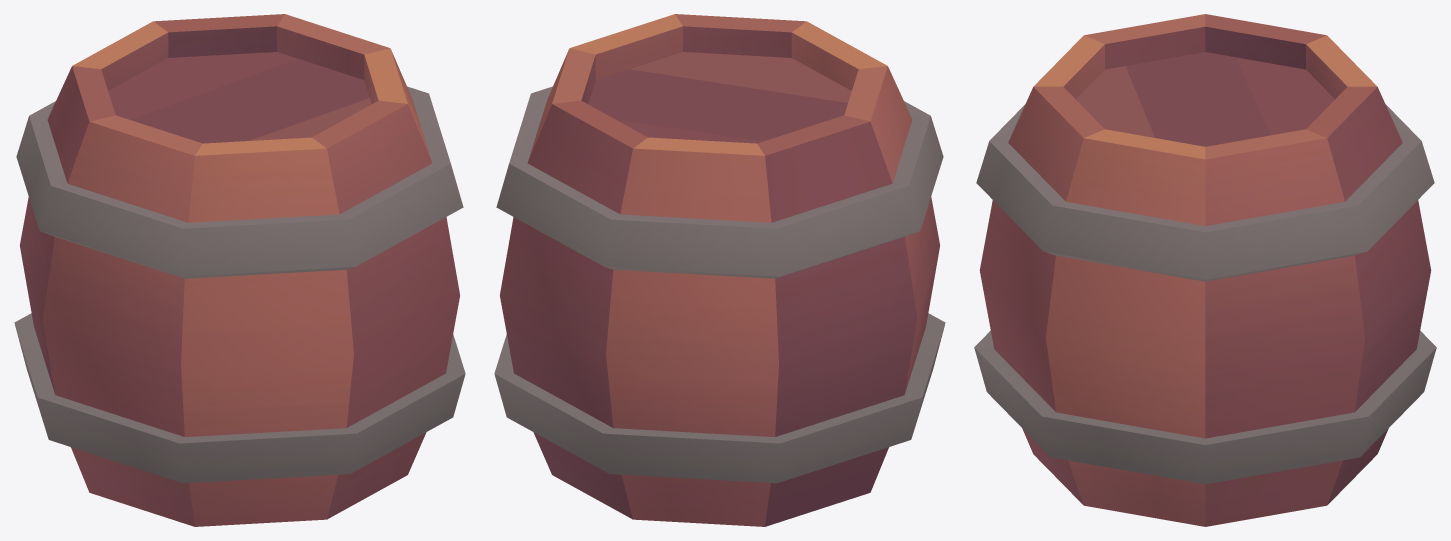
The model's file is village_town_barrel.glb.
3 views of the same model, side by side, from view 1: azimuth 30°, elevation 25°; view 2: azimuth 150°, elevation 25°; view 3: azimuth 270°, elevation 25° (orthographic).
Visible parts, largest first — view 1: Barrell.001_Material.005_0; view 2: Barrell.001_Material.005_0; view 3: Barrell.001_Material.005_0.
Part boxes in pixels (x1,y1,x2,y2): Barrell.001_Material.005_0: (14, 14, 465, 526); Barrell.001_Material.005_0: (494, 14, 945, 526); Barrell.001_Material.005_0: (974, 14, 1436, 526).
Bounding box in the file's own units: 0.9631 × 0.8441 × 0.9631.
Materials: 1 (1 with a texture image).
